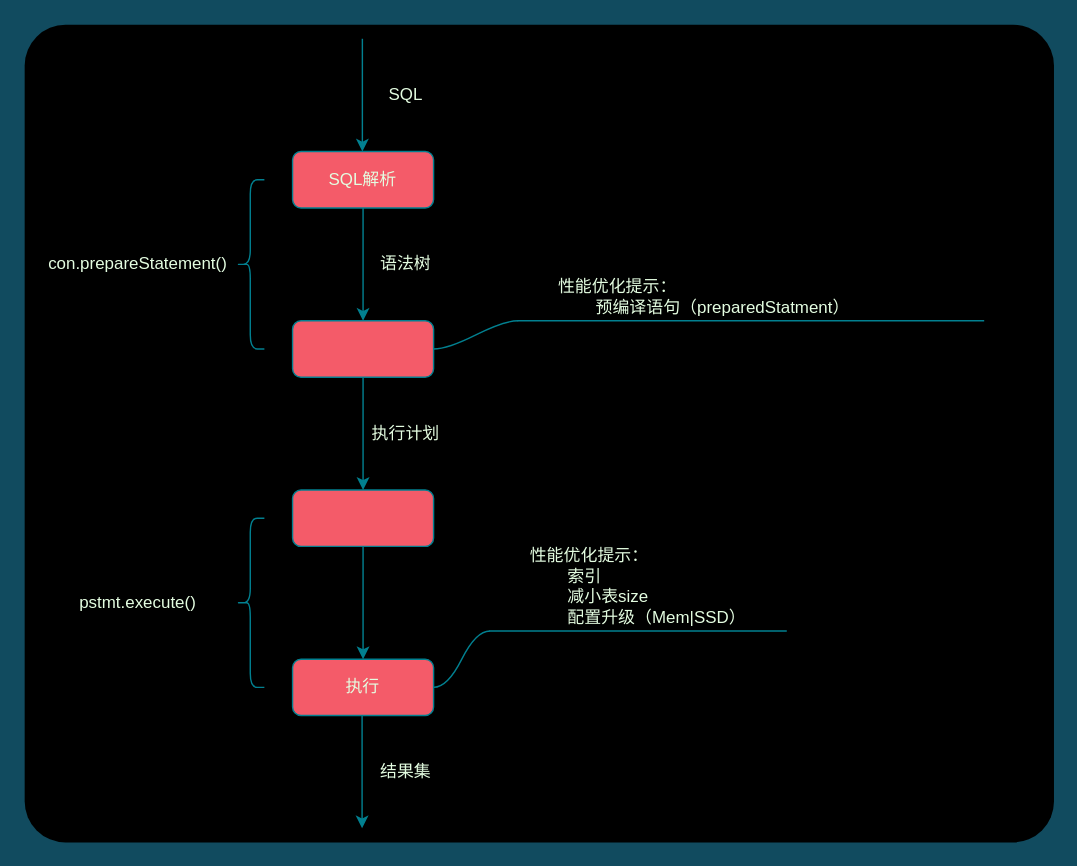
The diagram is 1077 pixels wide and 866 high, and some of its shapes have lost their labels. The centre of each missing label's shape, as x and y in pixels:
优化: point 362,348
绑参: point 362,517
